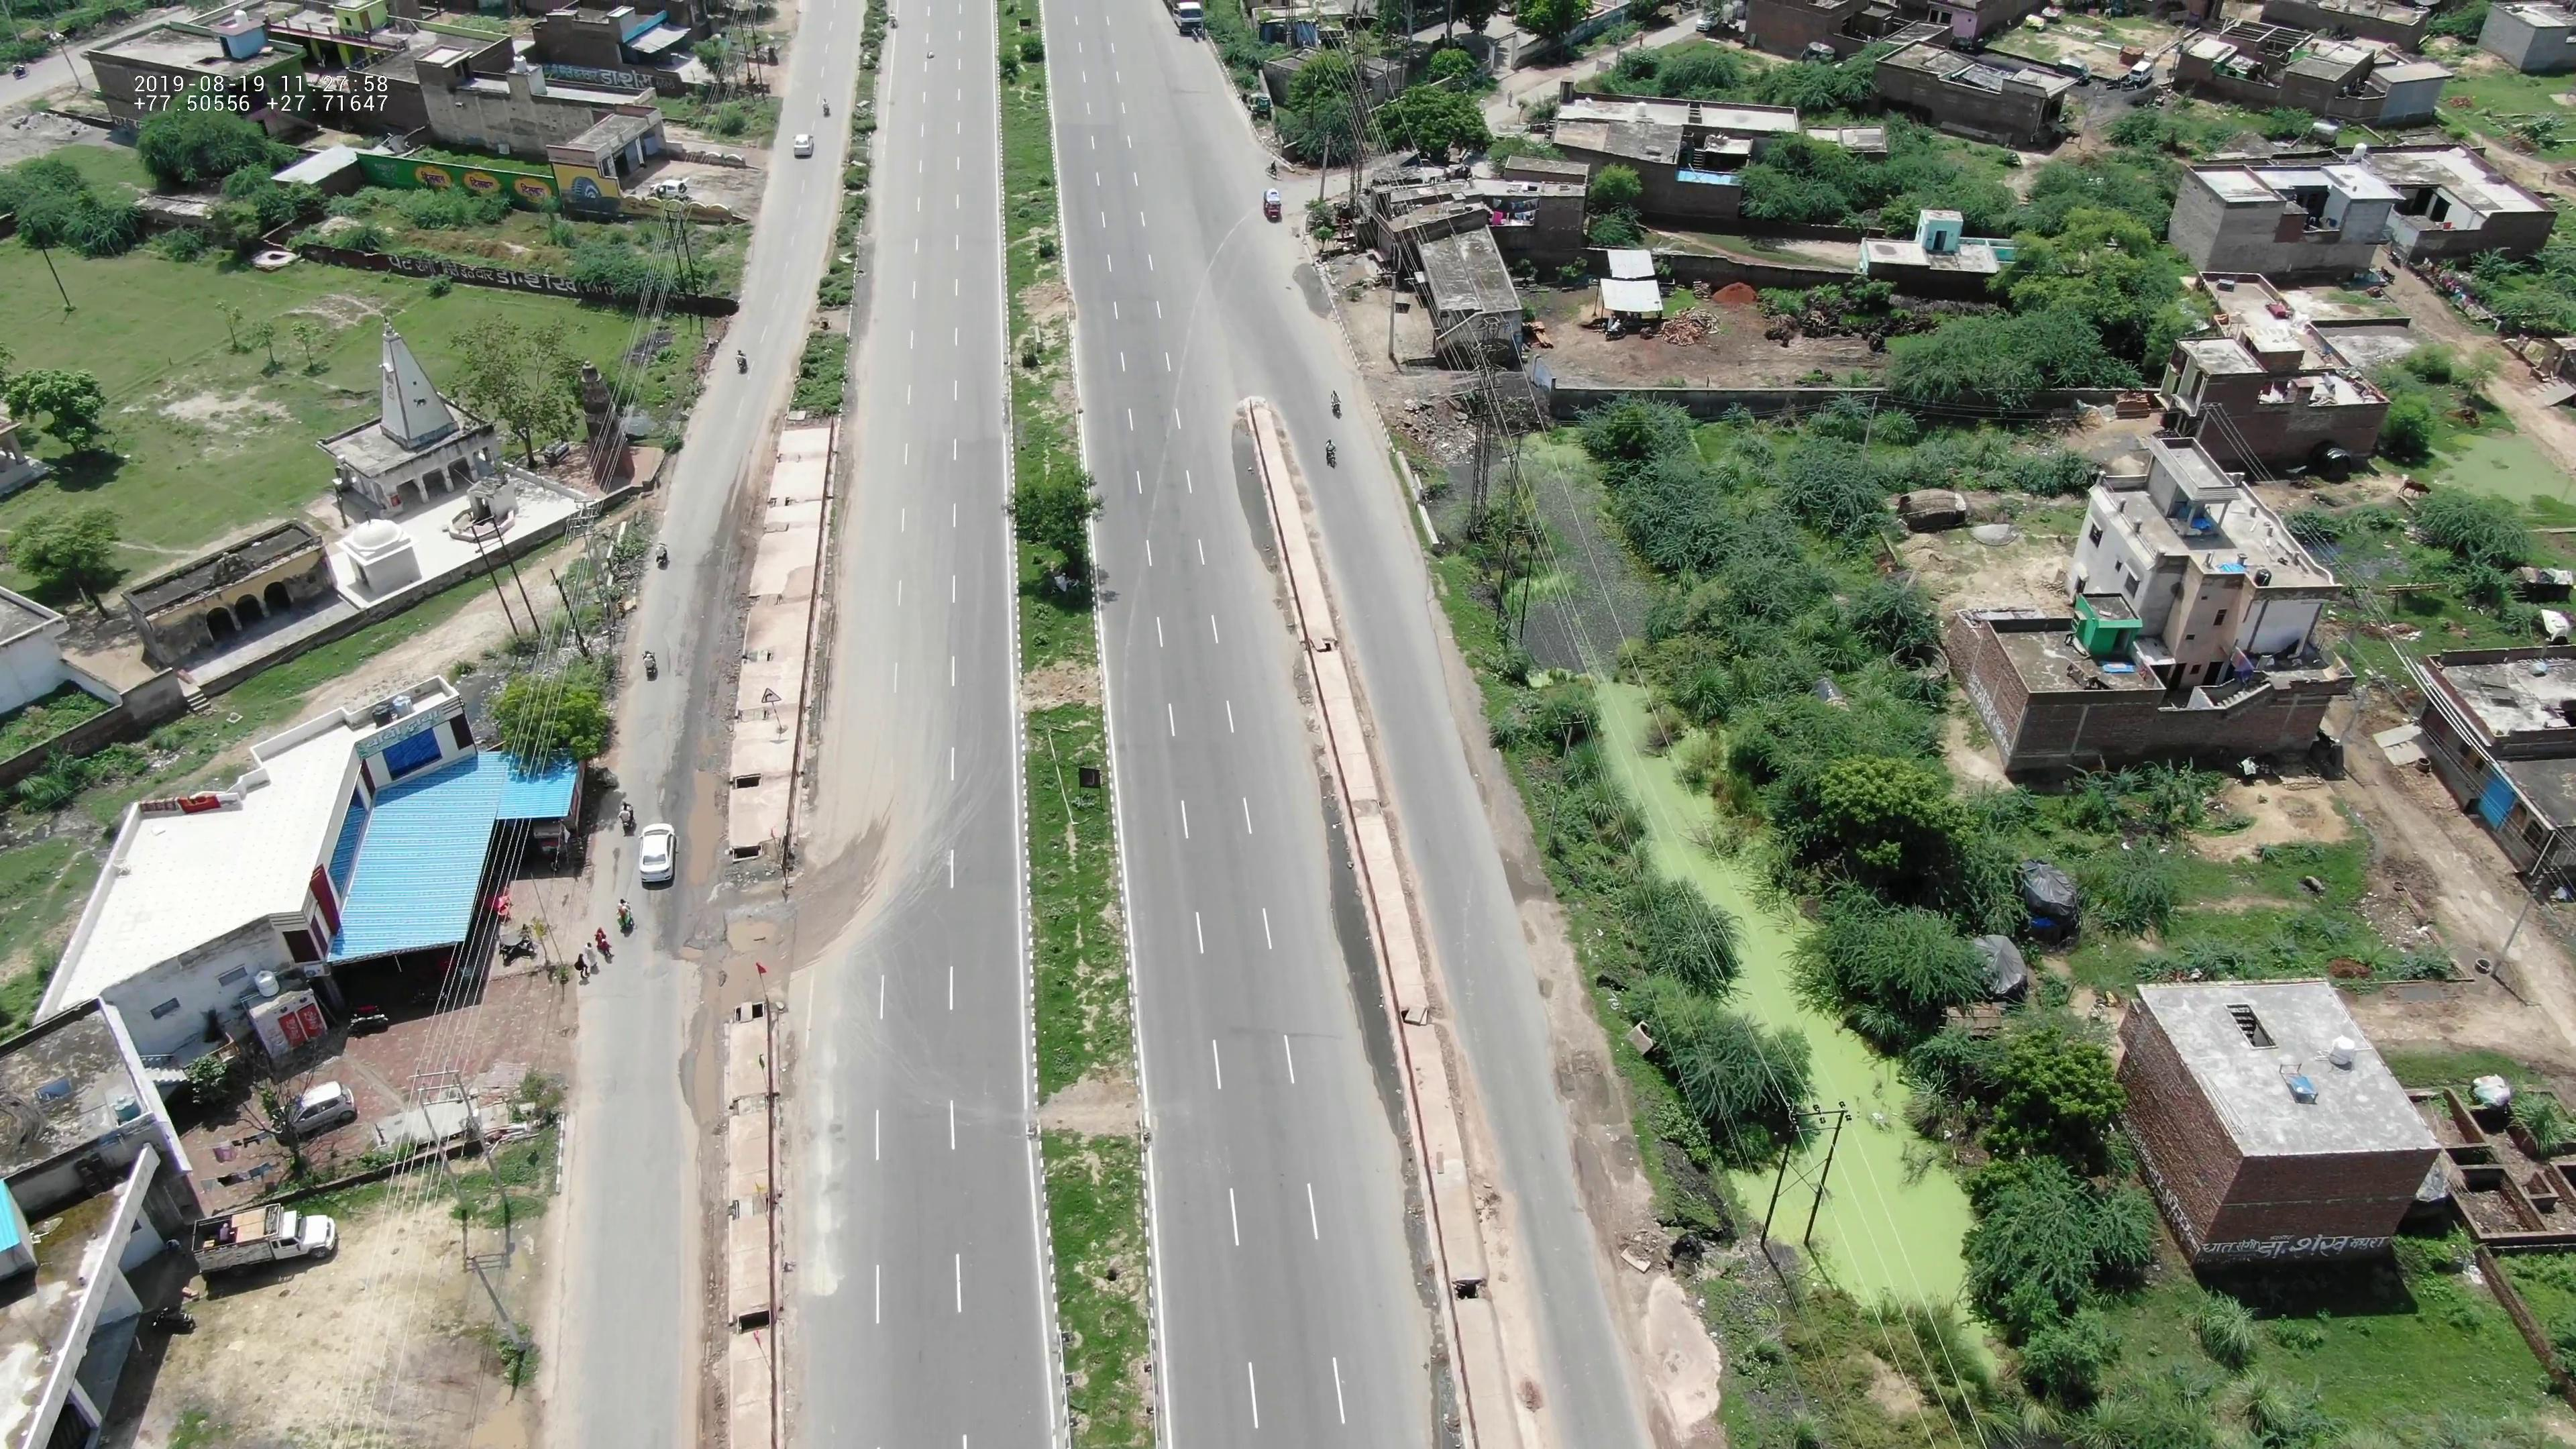Potholes: (713, 909, 786, 955)
Waterlogging: (683, 757, 722, 888), (688, 1007, 725, 1139)
